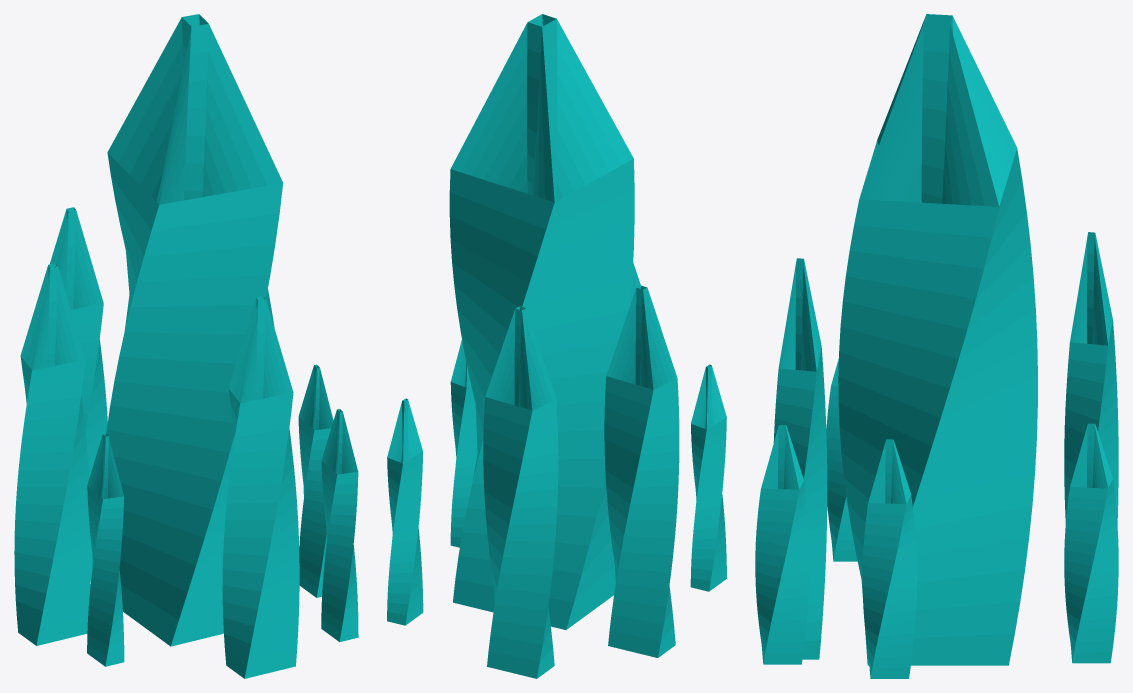
The model's file is CasillaCiudad1.fbx.
3 renders of one model, left to right at view 1: azimuth 30°, elevation 25°; view 2: azimuth 150°, elevation 25°; view 3: azimuth 270°, elevation 25°, orthographic. The views are drawn at different scales.
Visible parts, largest first — view 1: Cube, Cube.001, Cube.002, Cube.006, Cube.007, Cube.003, Cube.005; view 2: Cube, Cube.002, Cube.003, Cube.007, Cube.004, Cube.005; view 3: Cube, Cube.001, Cube.004, Cube.006, Cube.005, Cube.003, Cube.007.
Part boxes in pixels (x1=…): Cube: x1=106, y1=14, x2=283, y2=646; Cube.001: x1=222, y1=296, x2=299, y2=678; Cube.002: x1=14, y1=263, x2=91, y2=645; Cube.006: x1=321, y1=409, x2=358, y2=642; Cube.007: x1=87, y1=433, x2=124, y2=666; Cube.003: x1=49, y1=207, x2=107, y2=580; Cube.005: x1=298, y1=364, x2=333, y2=597; Cube: x1=449, y1=14, x2=634, y2=629; Cube.002: x1=604, y1=285, x2=679, y2=657; Cube.003: x1=483, y1=306, x2=558, y2=678; Cube.007: x1=690, y1=364, x2=726, y2=591; Cube.004: x1=387, y1=398, x2=423, y2=625; Cube.005: x1=450, y1=340, x2=477, y2=547; Cube: x1=838, y1=14, x2=1037, y2=665; Cube.001: x1=773, y1=258, x2=827, y2=659; Cube.004: x1=1064, y1=423, x2=1118, y2=663; Cube.006: x1=755, y1=425, x2=809, y2=664; Cube.005: x1=862, y1=439, x2=916, y2=678; Cube.003: x1=1064, y1=232, x2=1118, y2=524; Cube.007: x1=826, y1=358, x2=857, y2=561.
Size of the model in its own units: 14.24 by 30.05 by 15.77.
